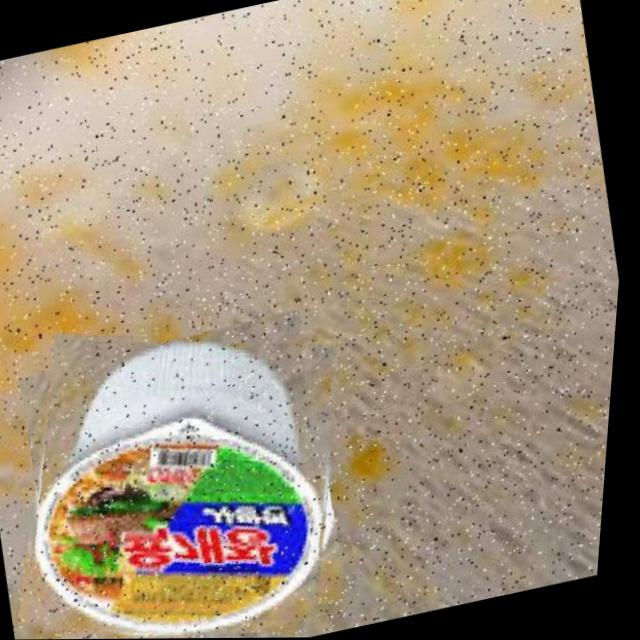Miscellaneous: (0, 292, 387, 640)
